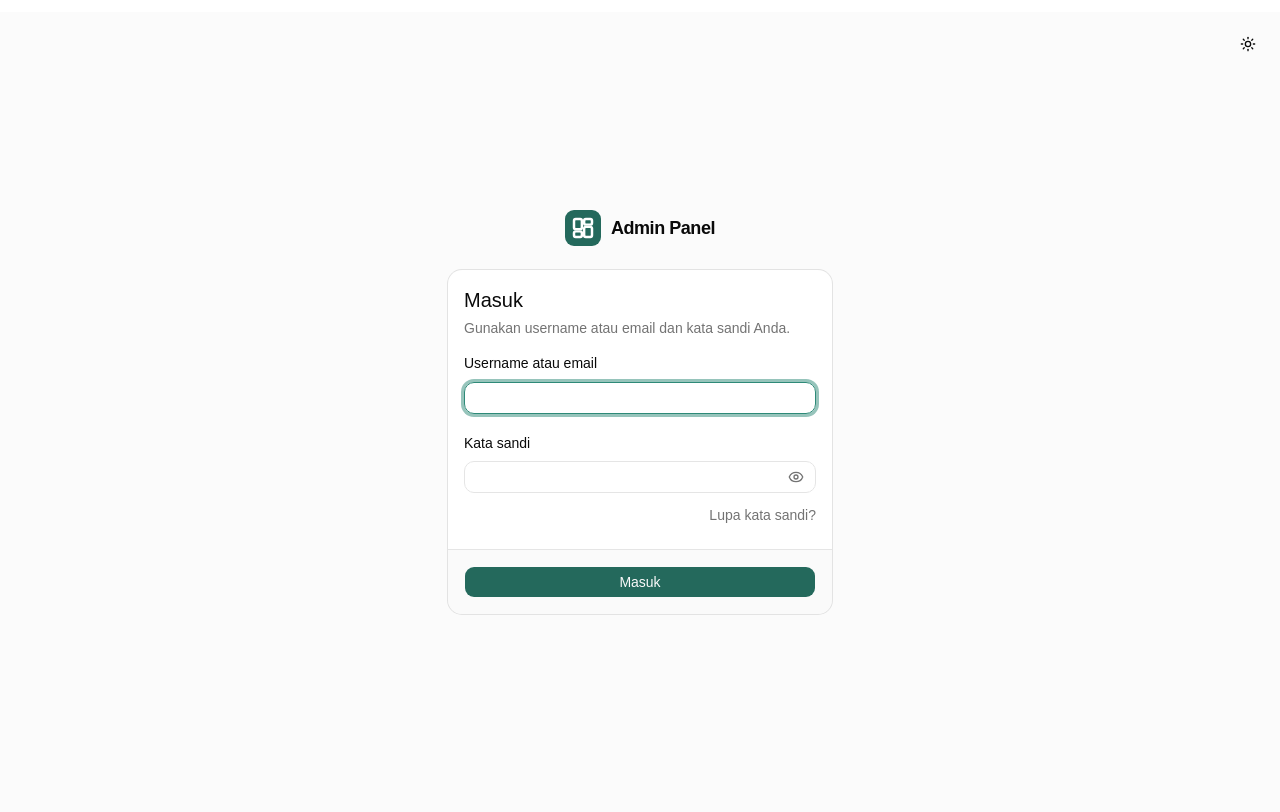
Test: login › signs in and continues to the requested page
Step 1. Type "budi" into the field labelled "Username atau email" → (640, 398), box top-left (464, 382), bottom-right (816, 414)
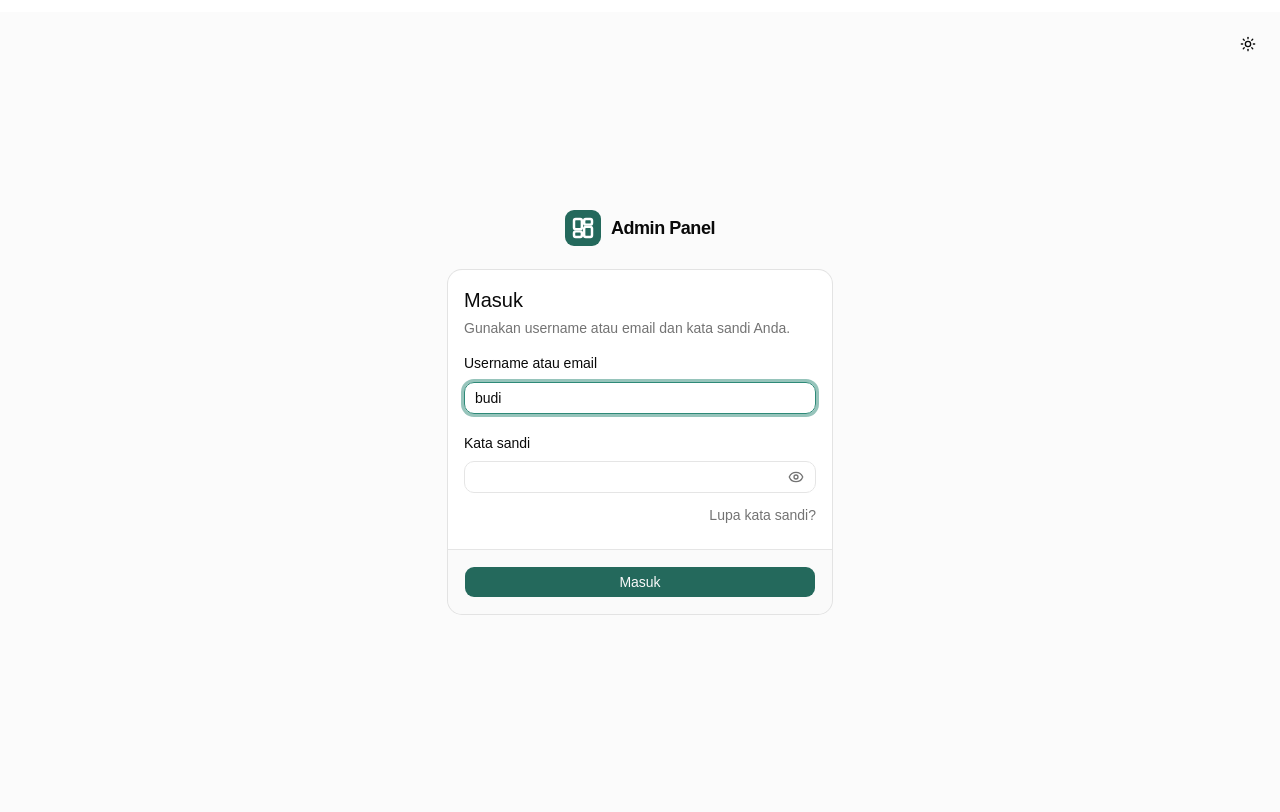
Step 2. Type "Rahasia123" into the password field labelled "Kata sandi" → (640, 477), box top-left (464, 461), bottom-right (816, 493)
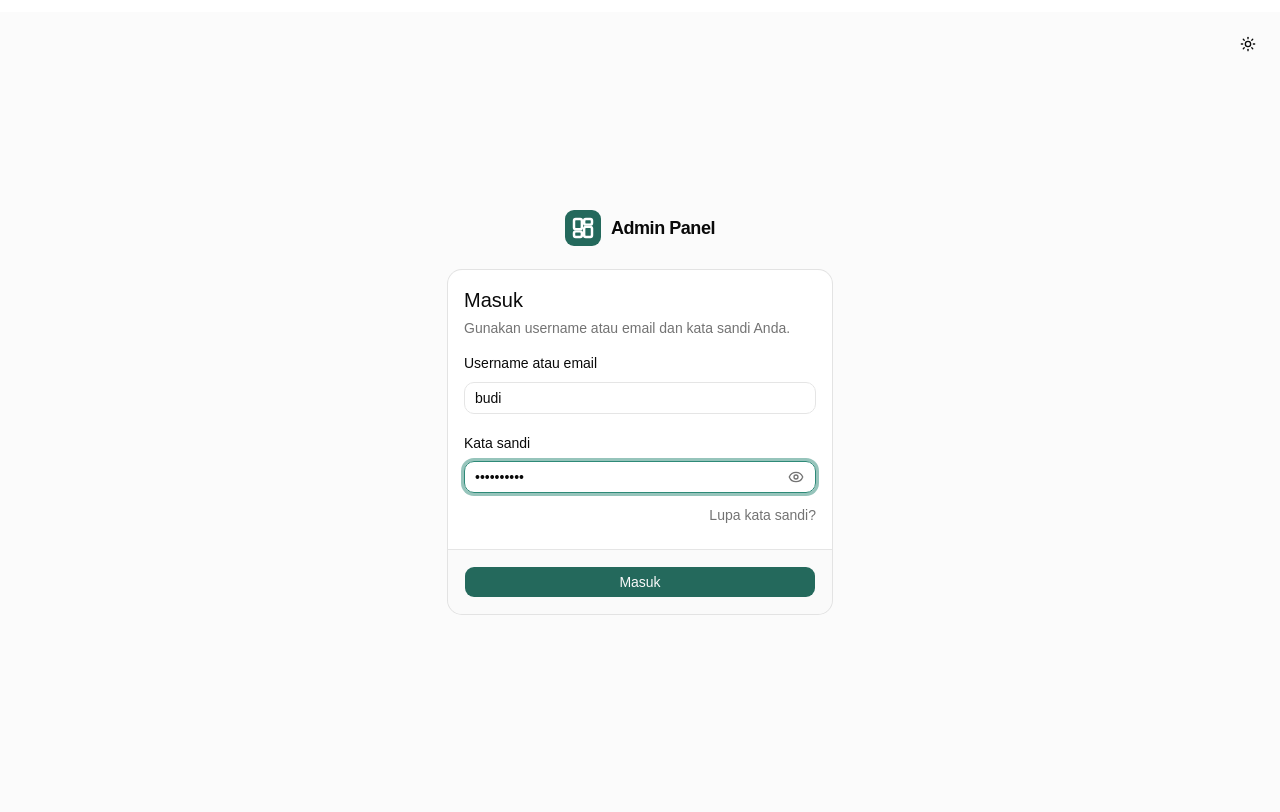
Step 3. Click the button "Masuk" → (640, 582), box top-left (464, 566), bottom-right (816, 598)
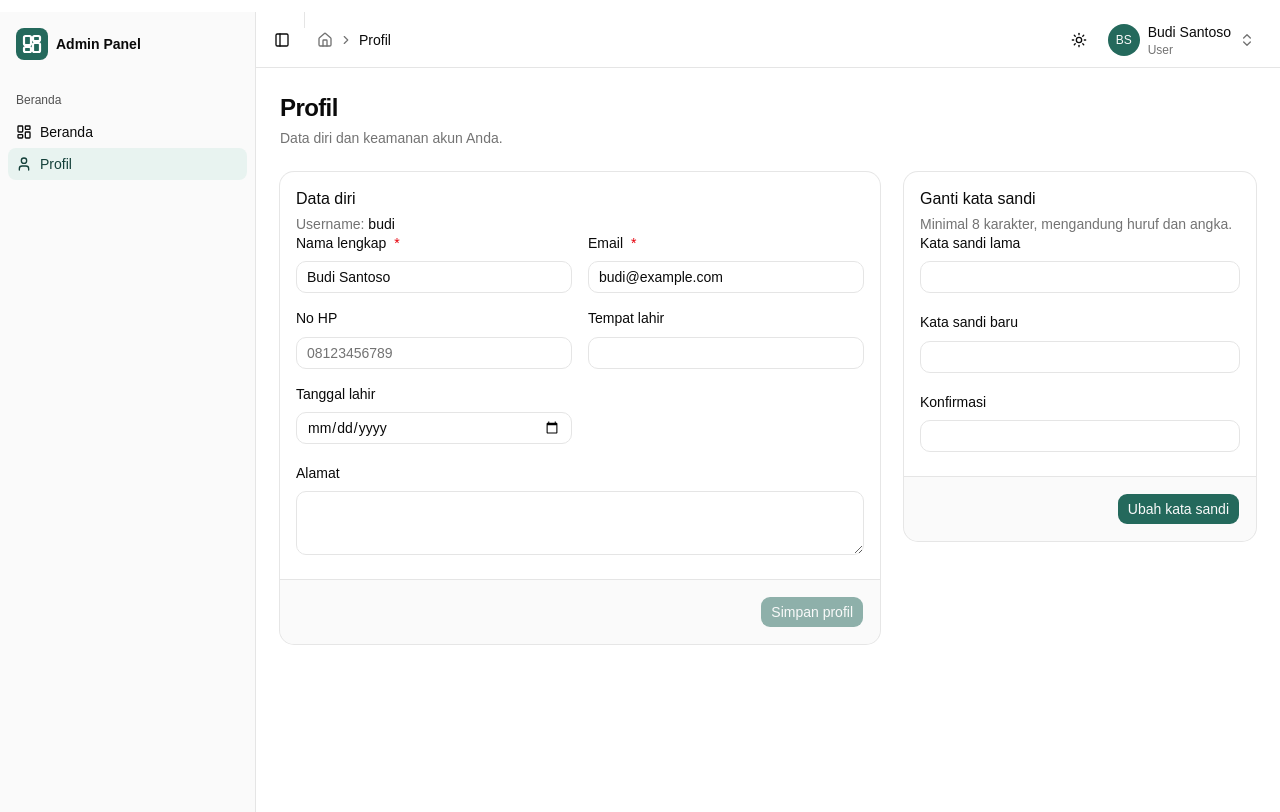
Result: the heading "Profil" is shown at top-left (280, 94), bottom-right (338, 121)
